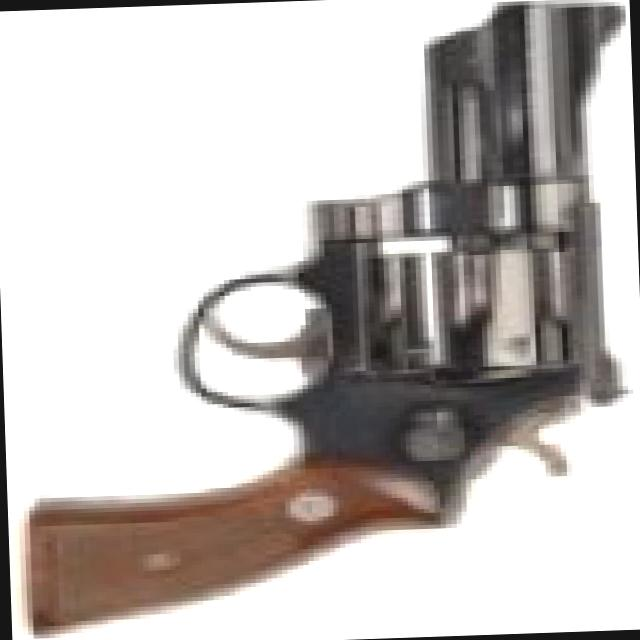handgun: (16, 0, 639, 635)
